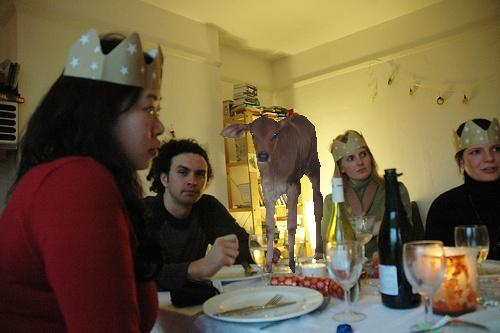tampered: (220, 116, 323, 273)
